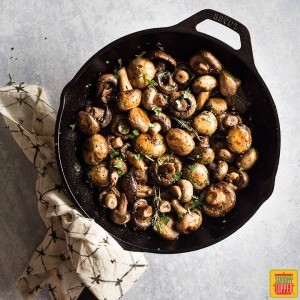mushroom_brain food: (111, 92, 250, 188)
